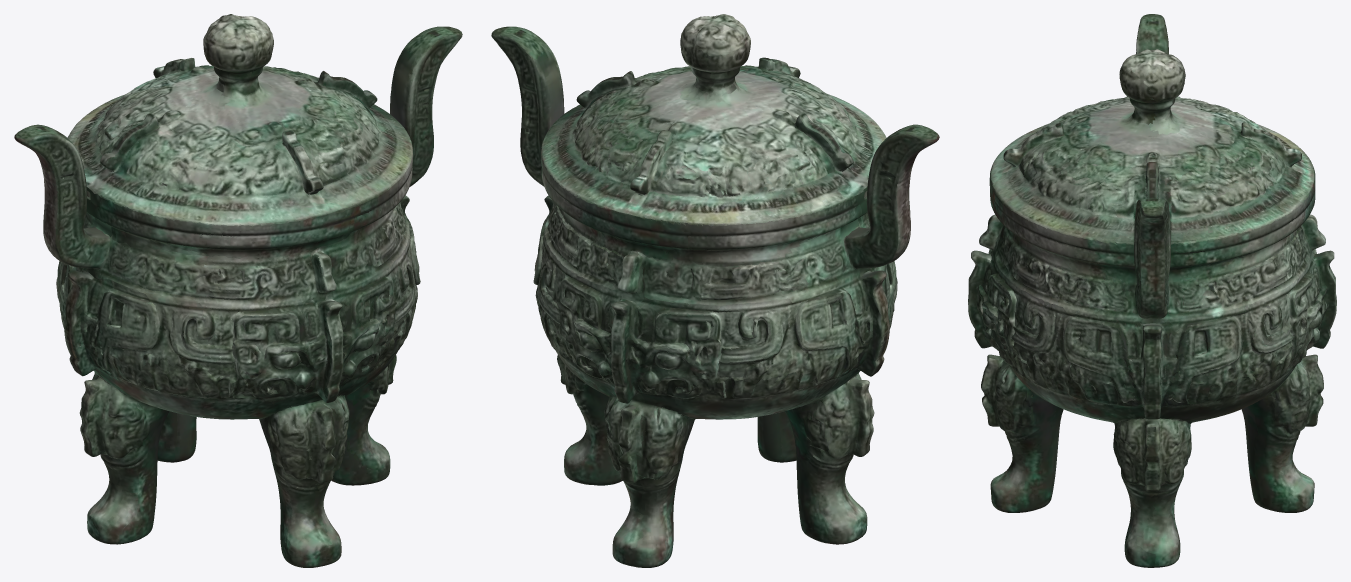
File: bronze-ding.glb
3 renders of one model, left to right at view 1: azimuth 30°, elevation 25°; view 2: azimuth 150°, elevation 25°; view 3: azimuth 270°, elevation 25°, orthographic. The views are drawn at different scales.
Visible parts, largest first — view 1: geometry_0; view 2: geometry_0; view 3: geometry_0.
Part boxes in pixels (x1,y1,x2,y2): geometry_0: [14, 14, 462, 567]; geometry_0: [491, 14, 939, 567]; geometry_0: [968, 14, 1336, 567].
Bounding box in the file's own units: 0.3361 × 0.35 × 0.2607.
Materials: 1 (1 with a texture image).
